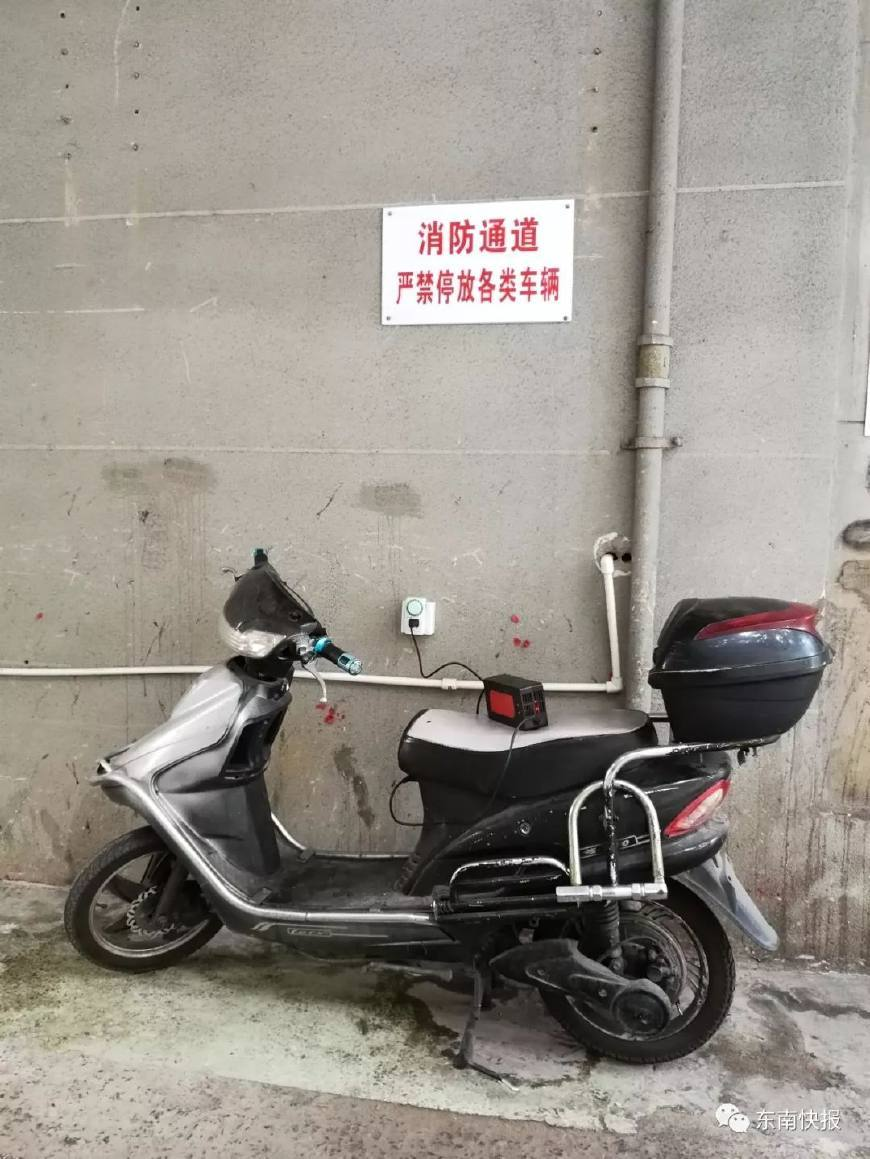电动车: (42, 517, 842, 1070)
